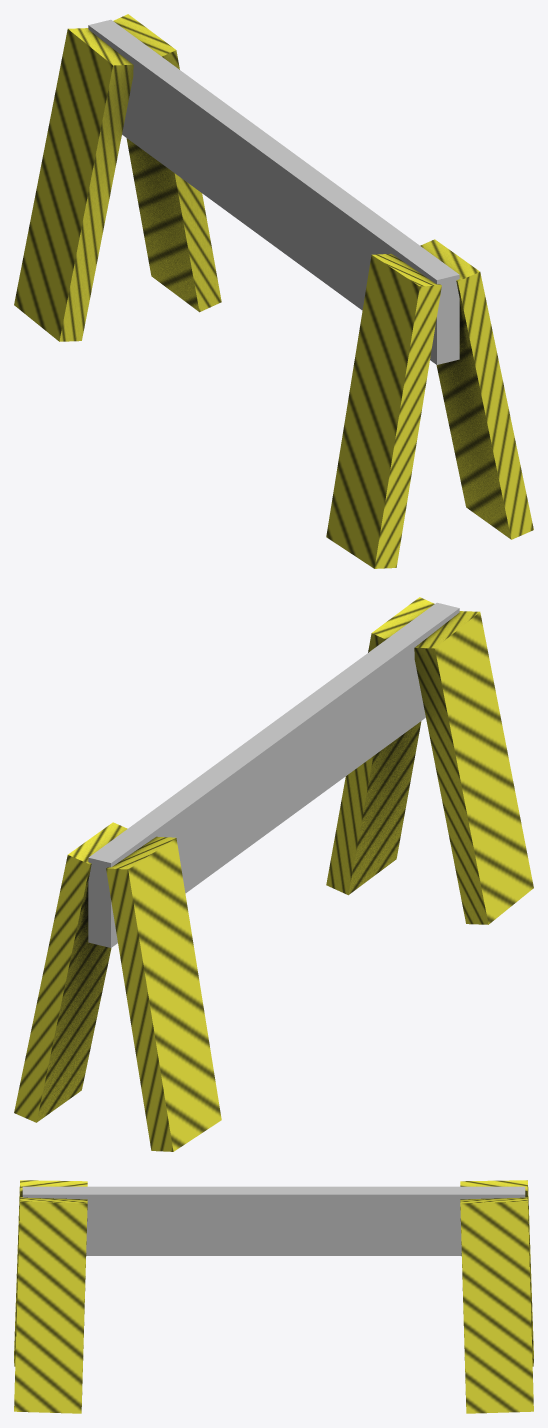
File: barricade.fbx
3 views of the same model, one above another, from view 1: azimuth 30°, elevation 25°; view 2: azimuth 150°, elevation 25°; view 3: azimuth 270°, elevation 25° (orthographic). The views are drawn at different scales.
Visible parts, largest first — view 1: barricade; view 2: barricade; view 3: barricade.
Boxes of the visible parts, x1,y1,x2,y2 form: barricade: [14, 14, 533, 568]; barricade: [14, 597, 533, 1151]; barricade: [14, 1180, 533, 1413].
Size of the model in its own units: 1.75 by 2.82 by 6.73.
